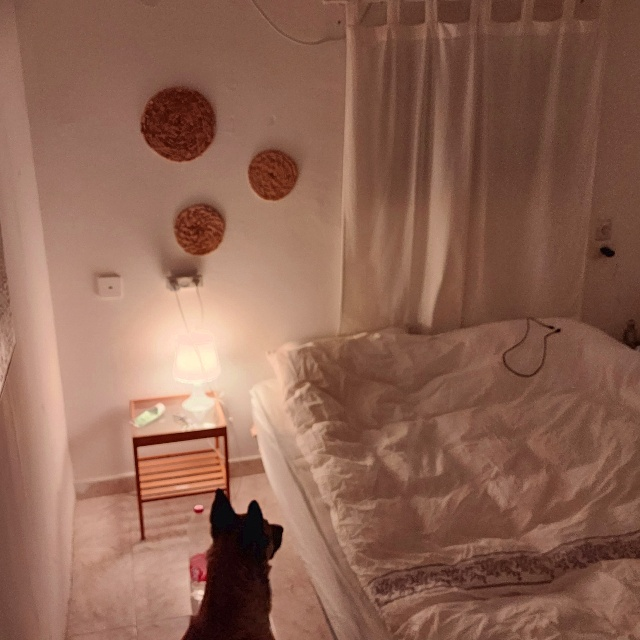glasses: (170, 409, 197, 434)
